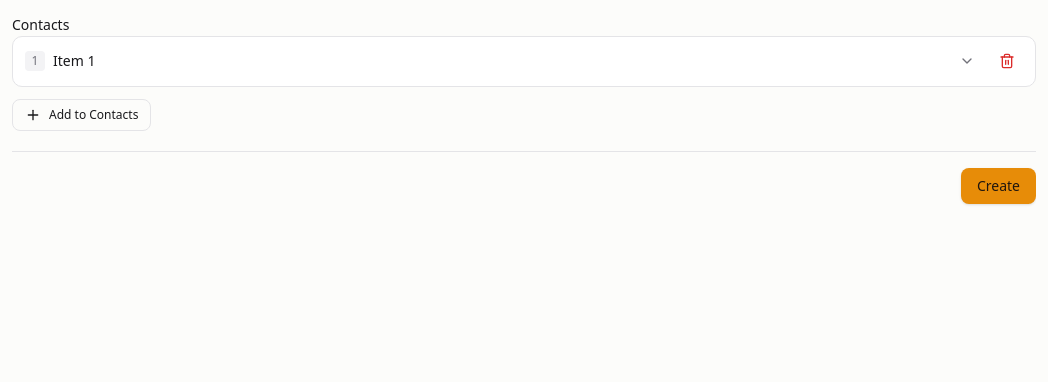
Test case: collapsing › starts folded when collapsed() is set, and reopens on click
Expected: the field labelled "Name" is not shown
Click the button named "Expand Item 1" at (967, 61), box [951, 45, 983, 77]
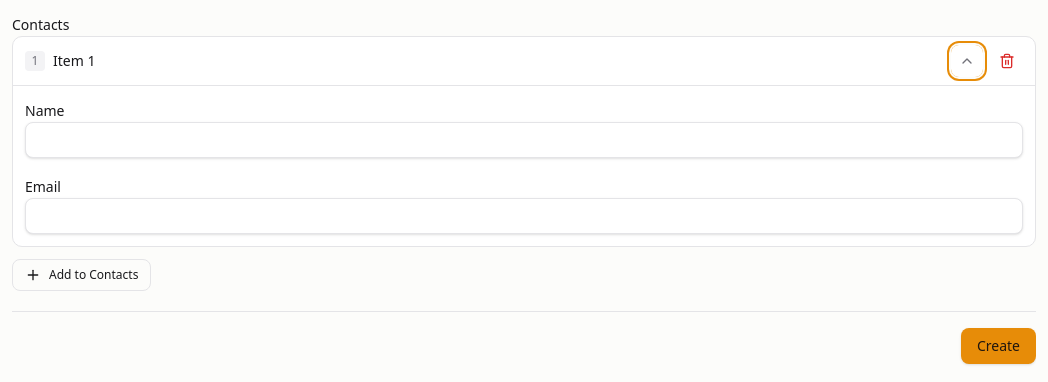
Now the field labelled "Name" is shown, box [25, 122, 1023, 158]
